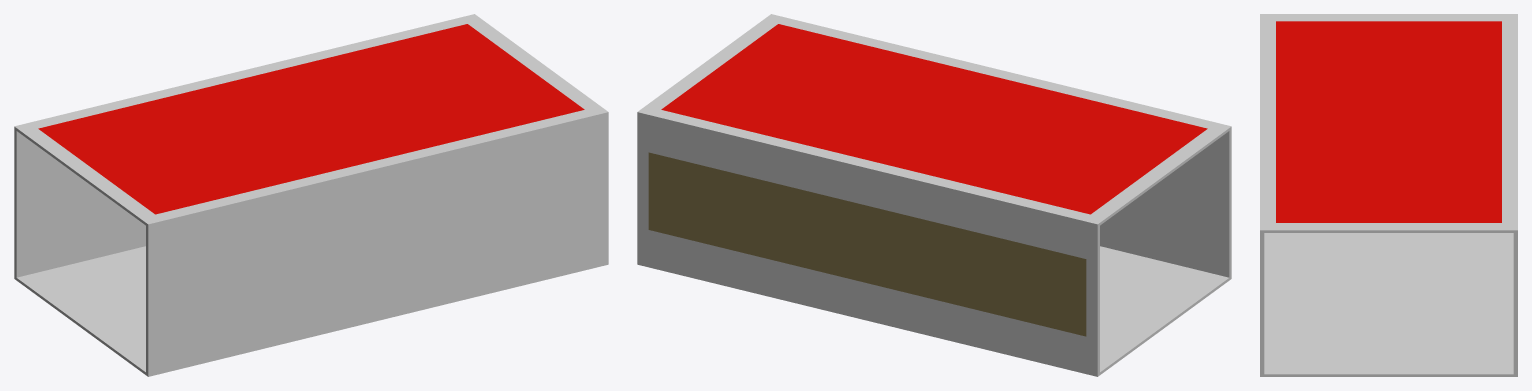
Rendered from Matches.fbx.
3 views of the same model, side by side, from view 1: azimuth 30°, elevation 25°; view 2: azimuth 150°, elevation 25°; view 3: azimuth 270°, elevation 25° (orthographic). The views are drawn at different scales.
Visible parts, largest first — view 1: MatchBox; view 2: MatchBox; view 3: MatchBox.
Boxes of the visible parts, bbox=[...] form: MatchBox: bbox=[14, 14, 608, 376]; MatchBox: bbox=[637, 14, 1231, 376]; MatchBox: bbox=[1260, 14, 1517, 376].
Bounding box in the file's own units: 34.77 × 11 × 17.52.
